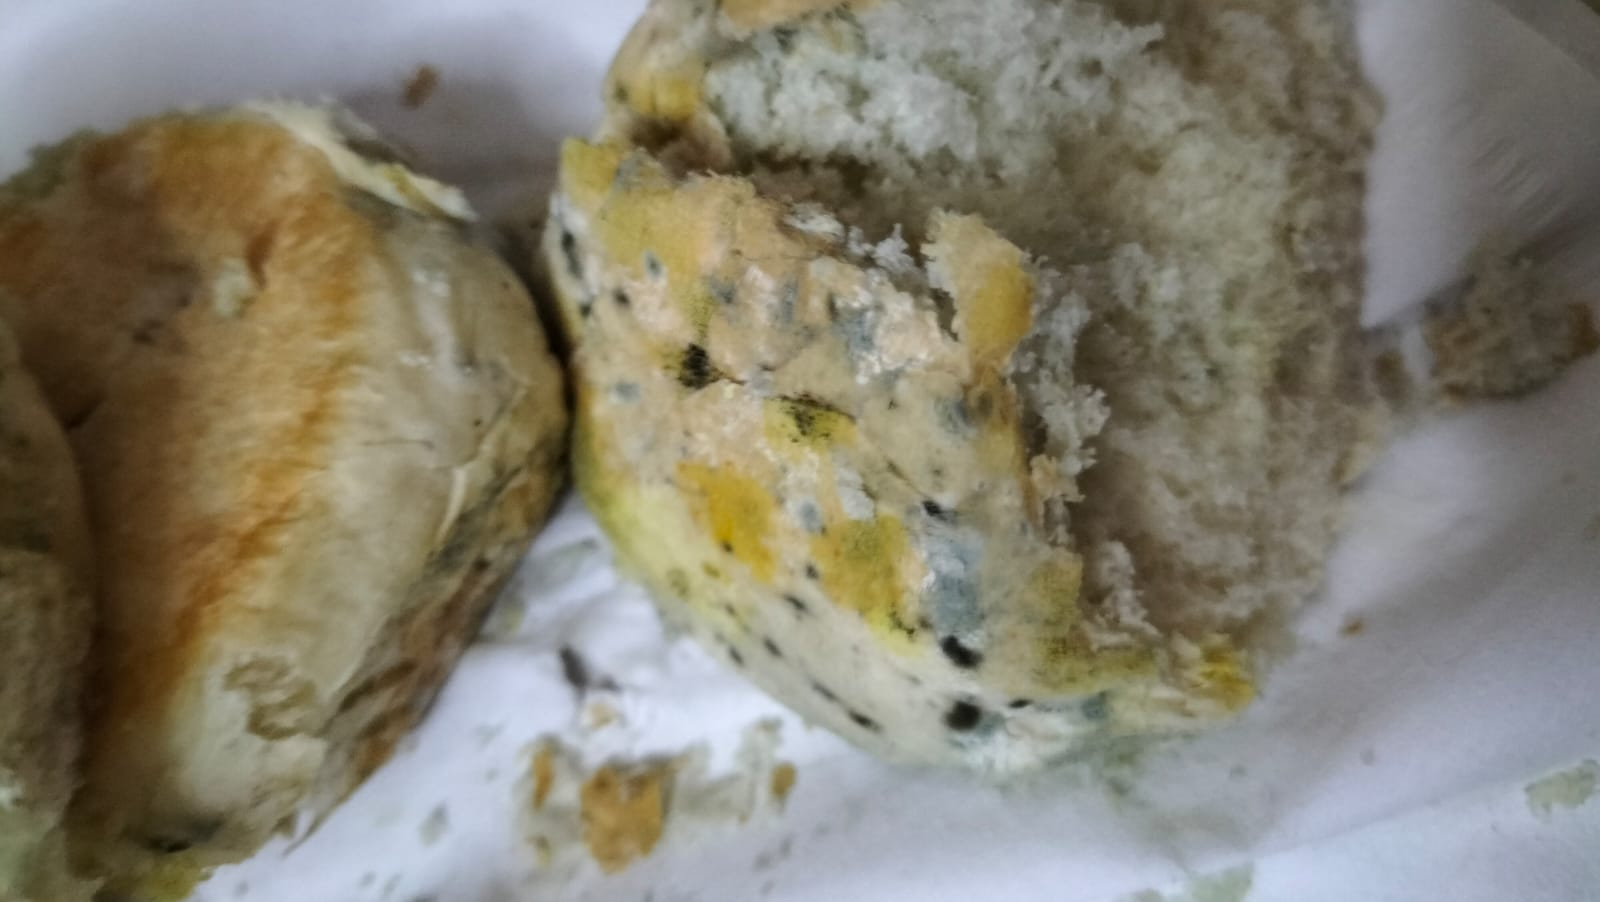mold_bread: (909, 489, 1000, 672), (769, 385, 856, 458), (662, 335, 735, 403), (937, 688, 1005, 749), (543, 207, 597, 283), (1010, 686, 1112, 722), (829, 299, 881, 364), (931, 386, 988, 444), (764, 277, 801, 339), (697, 270, 743, 311), (790, 495, 827, 531), (778, 589, 808, 619), (612, 377, 641, 404), (573, 297, 598, 324), (711, 530, 738, 555), (610, 285, 633, 311), (801, 557, 820, 583), (646, 255, 664, 278)
